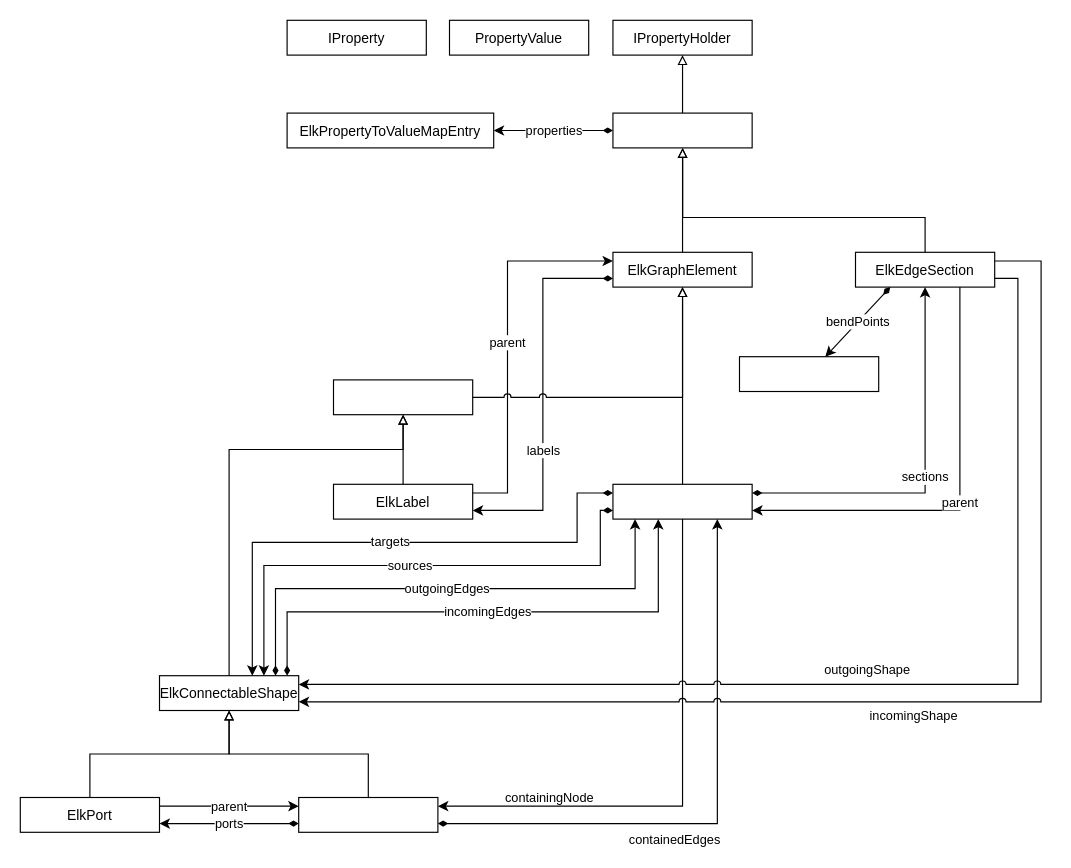
This 1071x868 diagram has some shape labels left out. The shapes that lost their labels are listed below. From the top down, each one's centre as x and y in pixels, then its label:
At point 682,130: "EMapPropertyHolder".
At point 808,374: "ElkBendPoint".
At point 402,397: "ElkShape".
At point 682,501: "ElkEdge".
At point 368,814: "ElkNode".
